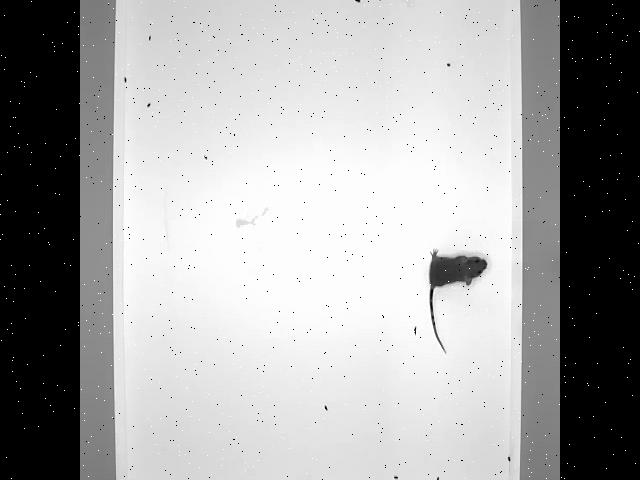Tikus: (424, 236, 492, 358)
